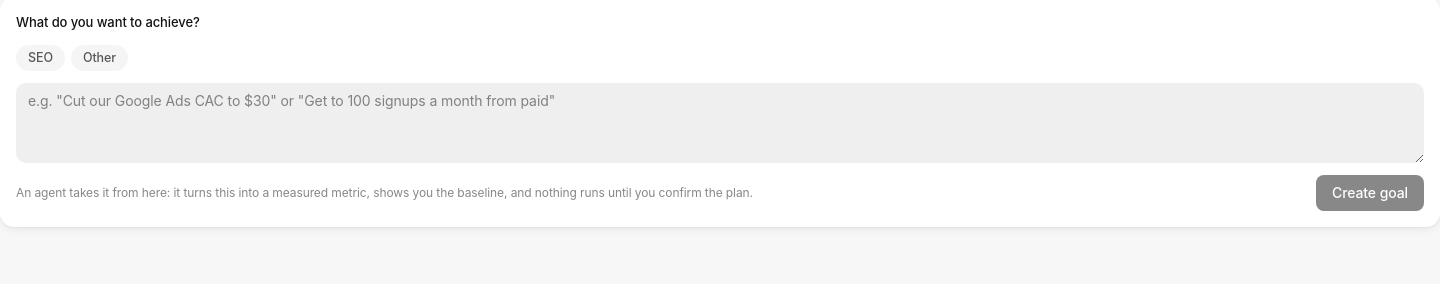
Scenario: NewGoalForm focus chips › selecting a focus swaps the placeholder and offers tap-to-fill examples
Click the button "SEO": {"x": 40, "y": 58} x1=16 y1=44 x2=65 y2=71
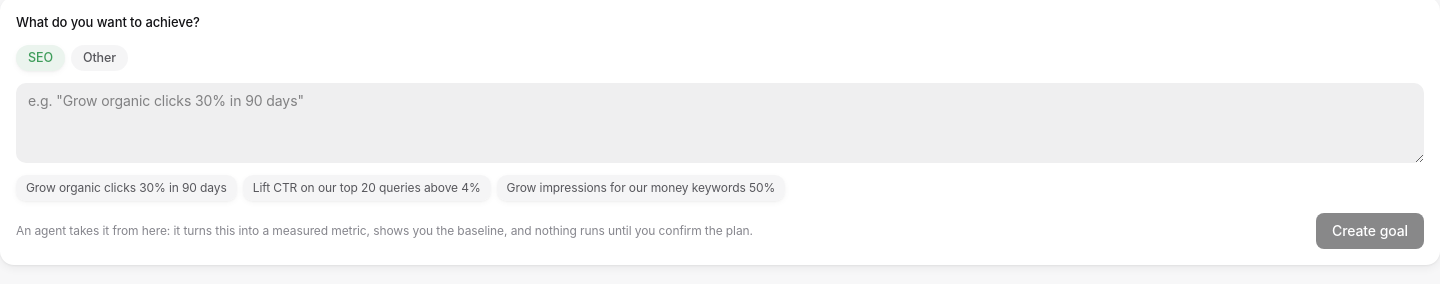
Click the button "Grow organic clicks 30% in 90 days": {"x": 126, "y": 188} x1=16 y1=175 x2=237 y2=201
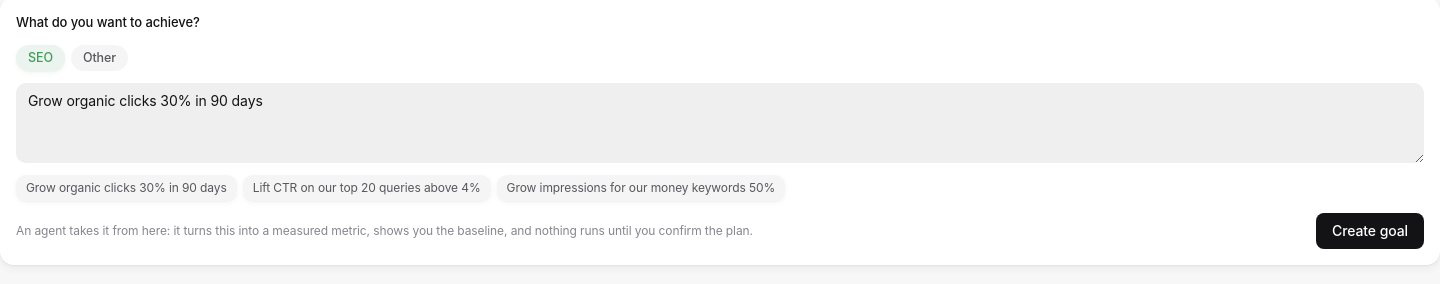
Now the text box labelled "What do you want to achieve?" holds "Grow organic clicks 30% in 90 days", box x1=16 y1=83 x2=1424 y2=163
